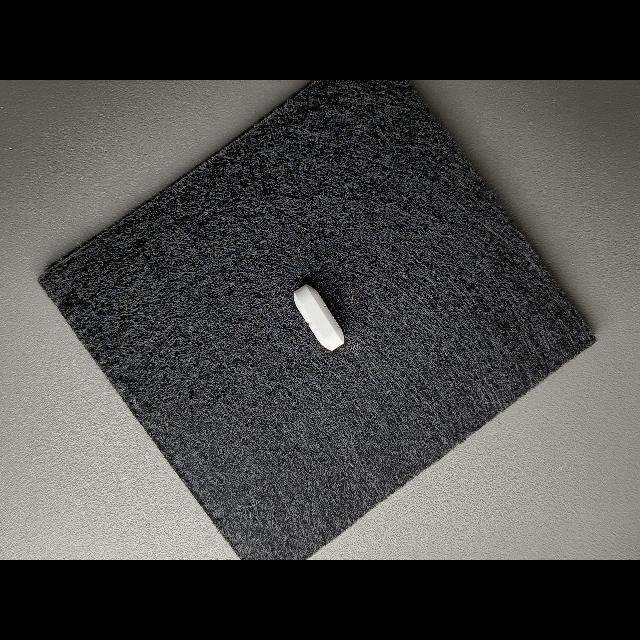Intact Pill: (294, 284, 344, 351)
